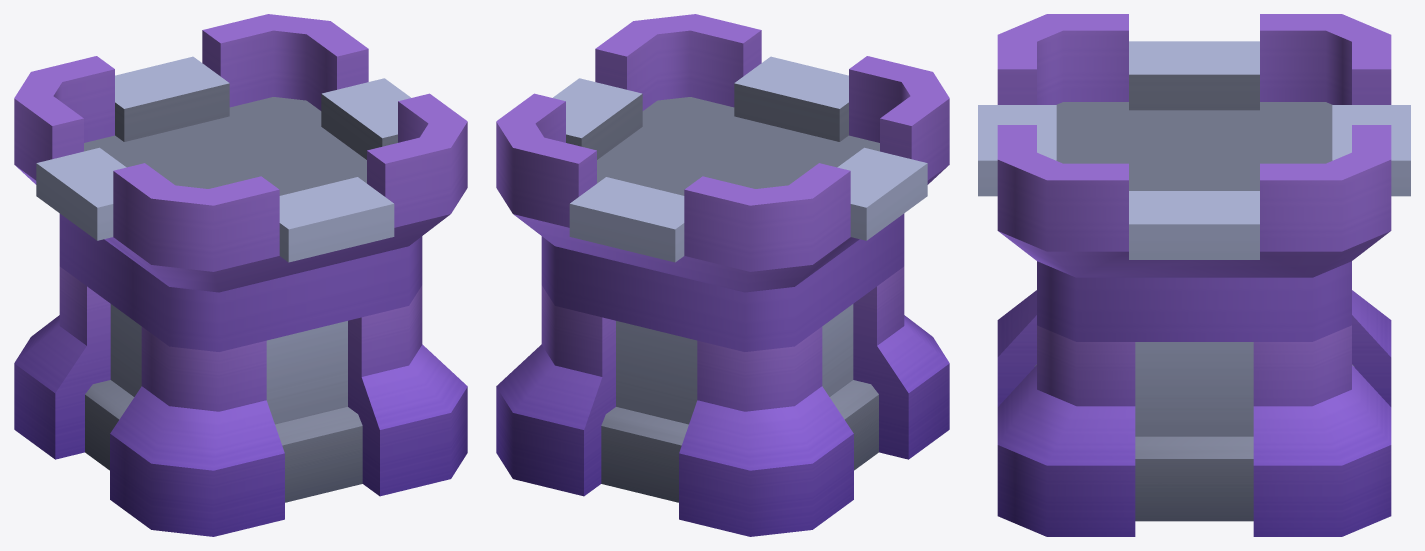
The model's file is tower-square-build-b.fbx.
The picture shows the model from 3 angles, left to right: view 1: azimuth 30°, elevation 25°; view 2: azimuth 150°, elevation 25°; view 3: azimuth 270°, elevation 25°; orthographic projection. The views are drawn at different scales.
Visible parts, largest first — view 1: tower-square-build-b; view 2: tower-square-build-b; view 3: tower-square-build-b.
Part boxes in pixels (x1,y1,x2,y2): tower-square-build-b: (14,14,467,536); tower-square-build-b: (496,14,949,536); tower-square-build-b: (978,14,1410,536).
Bounding box in the file's own units: 110 × 100 × 110.
